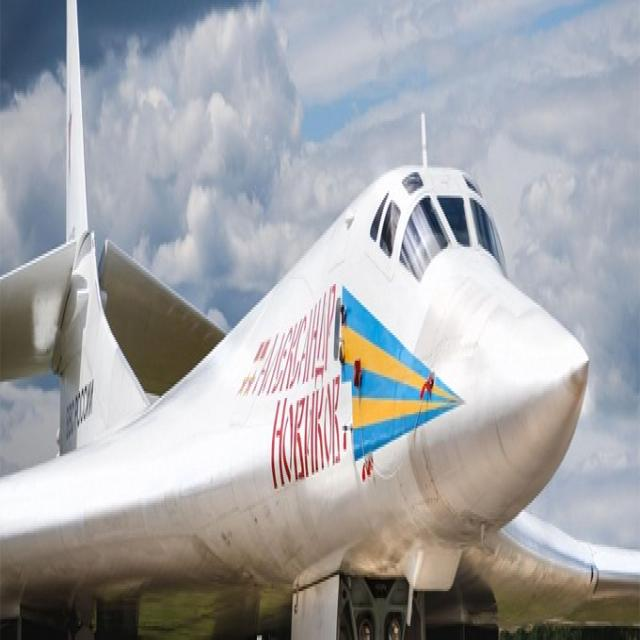Tu160: (4, 0, 601, 630)
